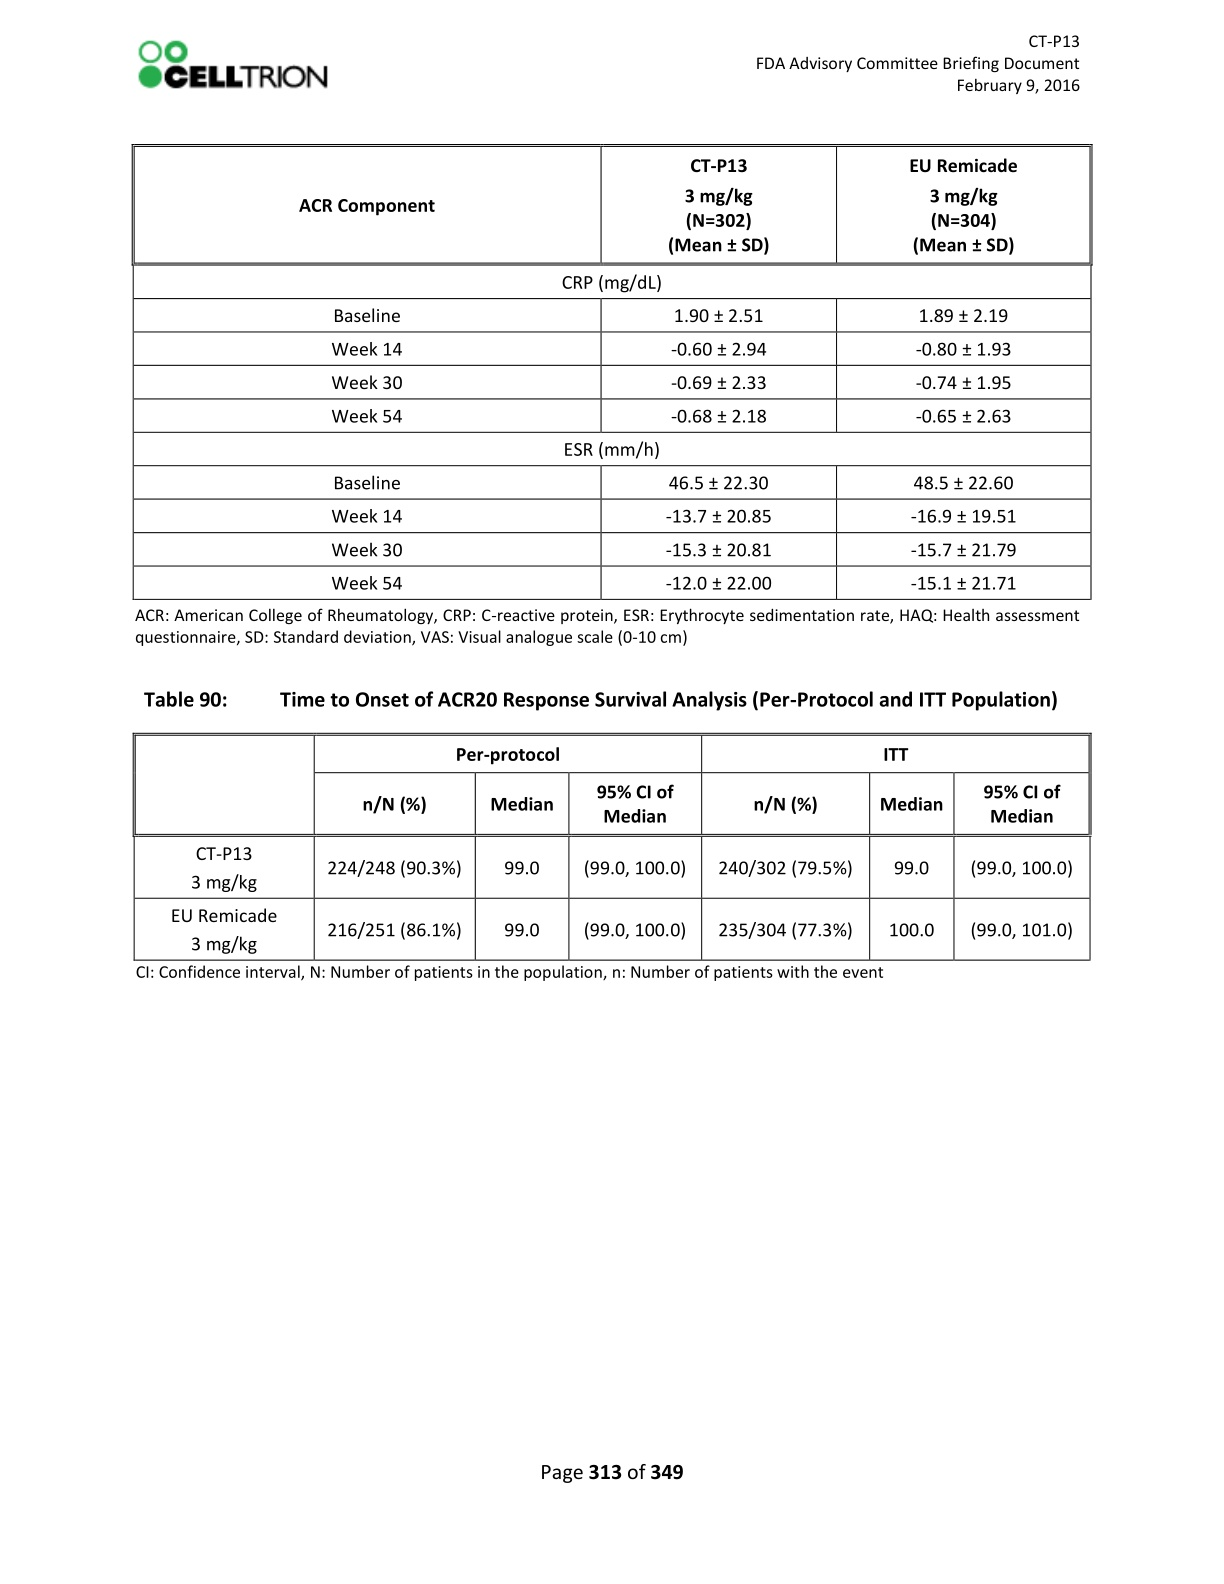merged_cells: (130, 141, 1094, 600), (131, 730, 1092, 960)
